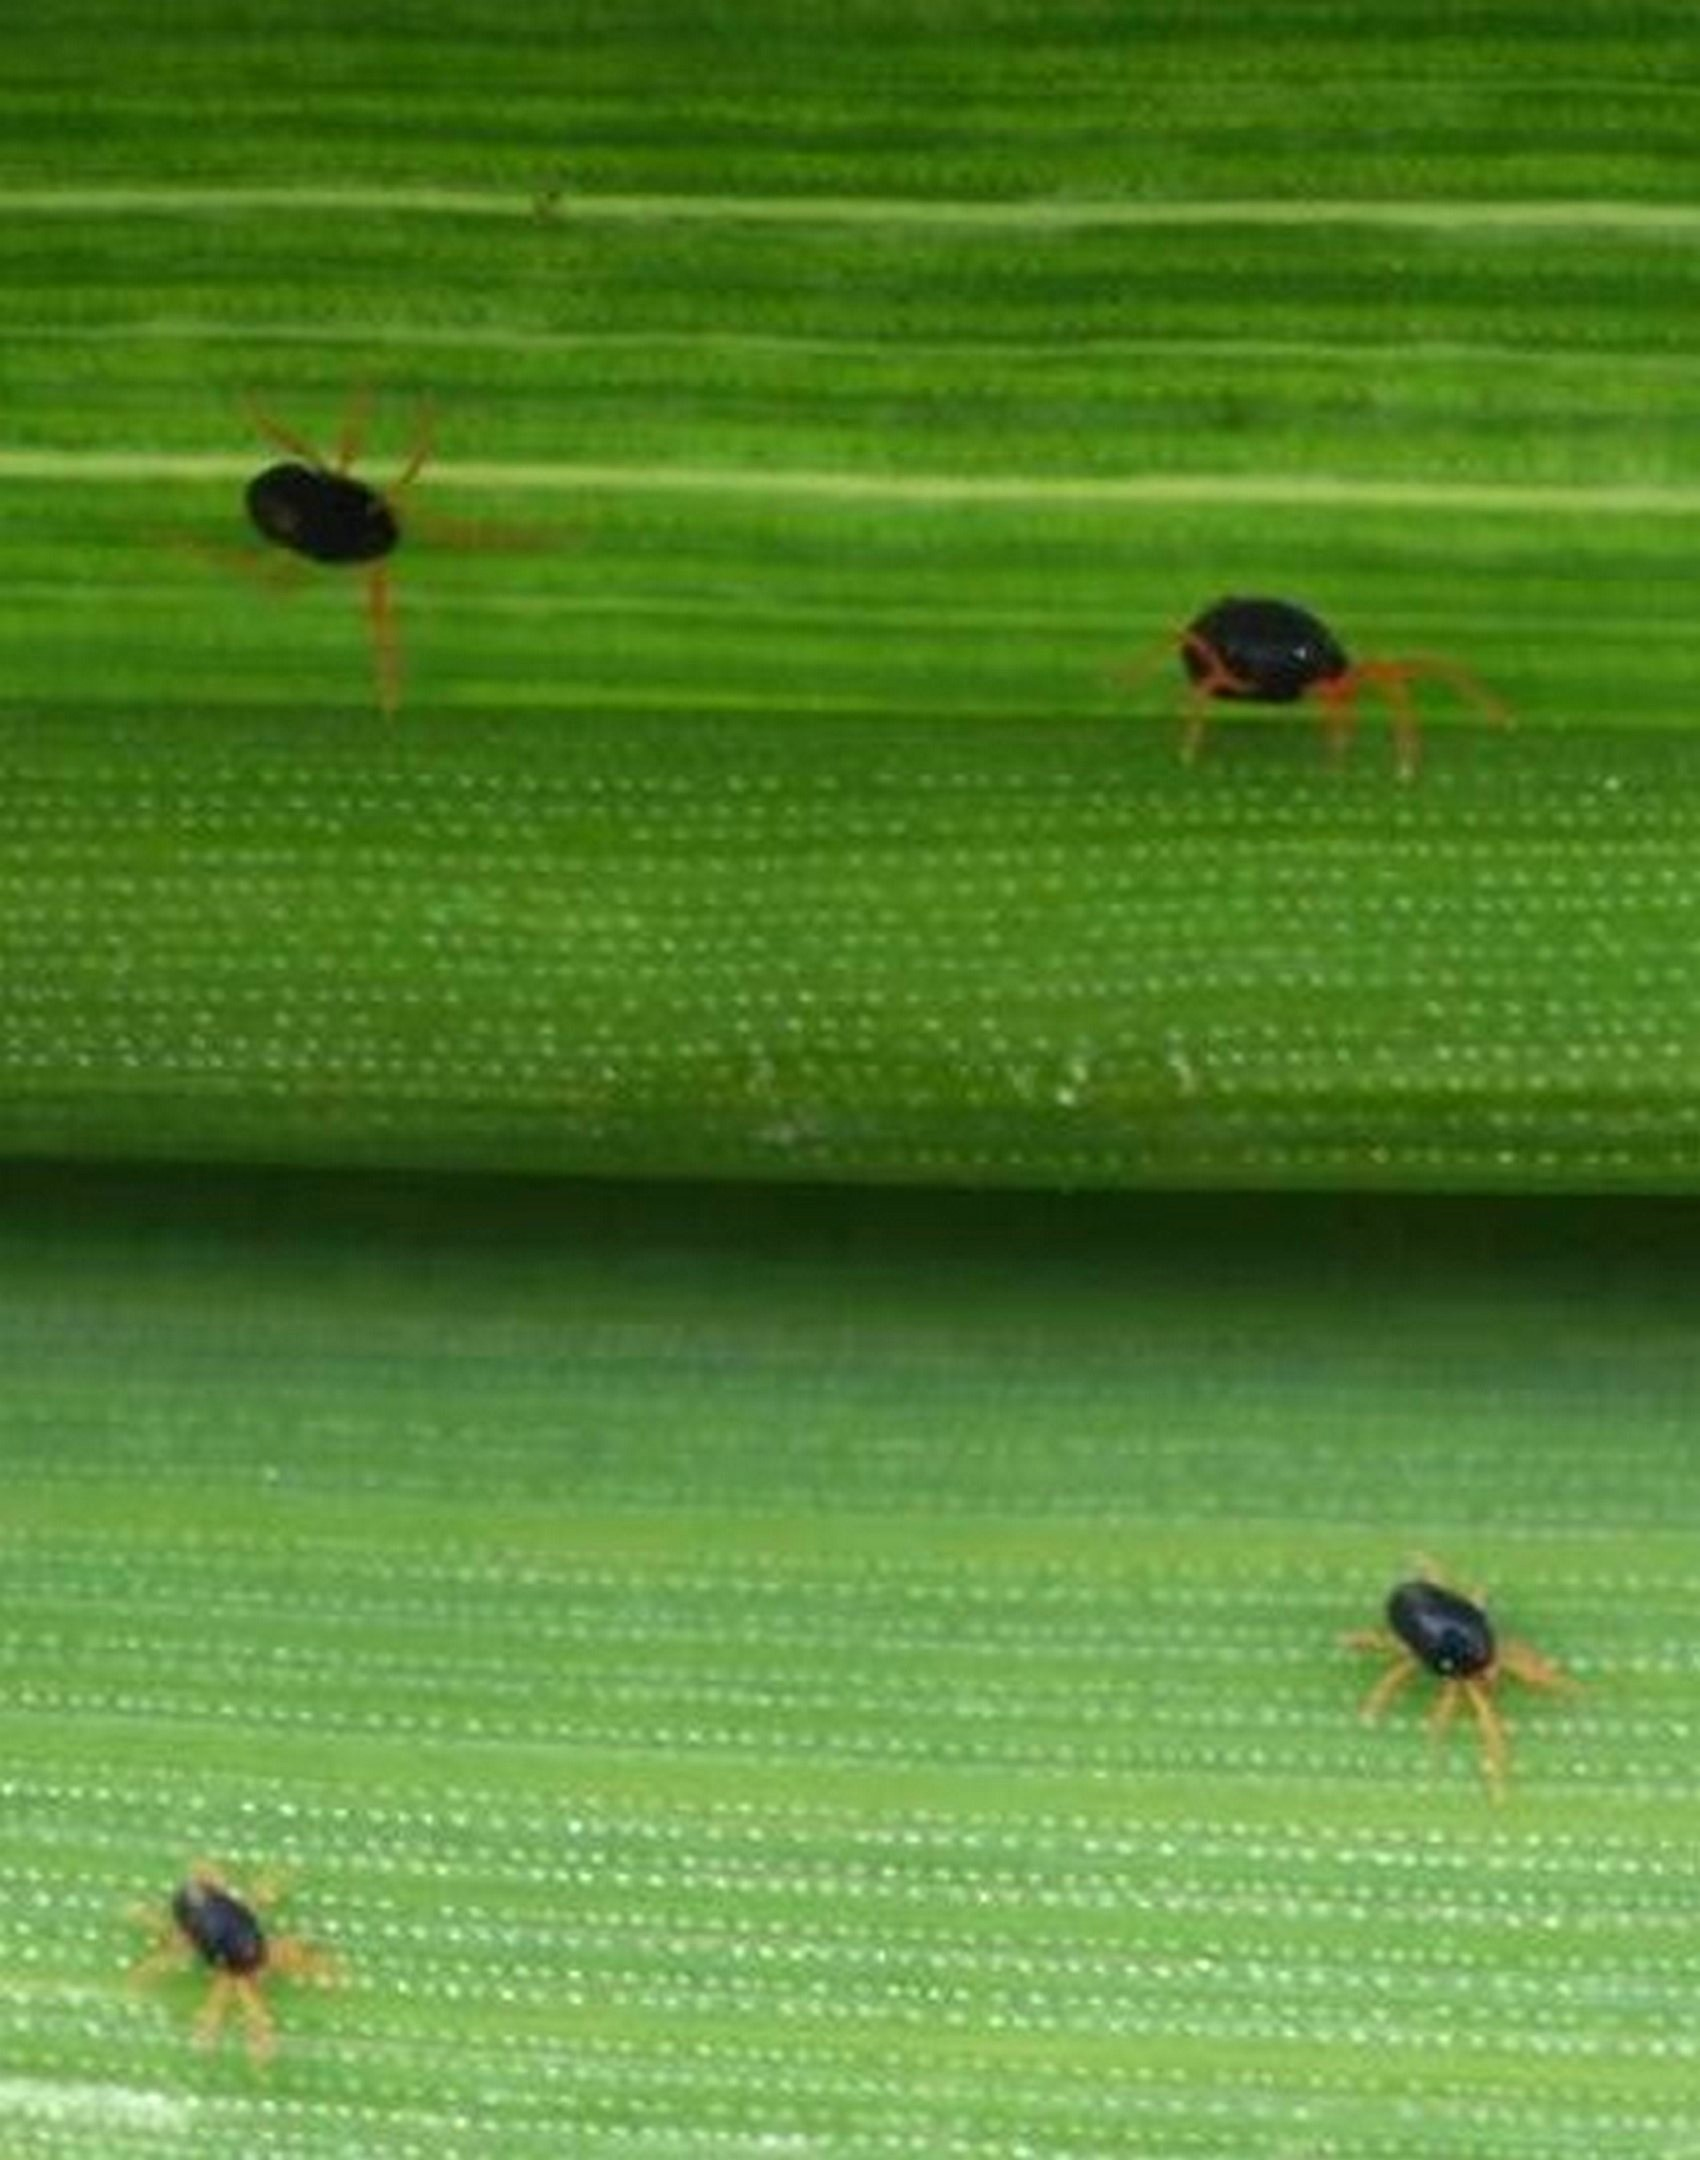Wheat Red Spider: (1094, 568, 1544, 808), (1314, 1510, 1595, 1829)
